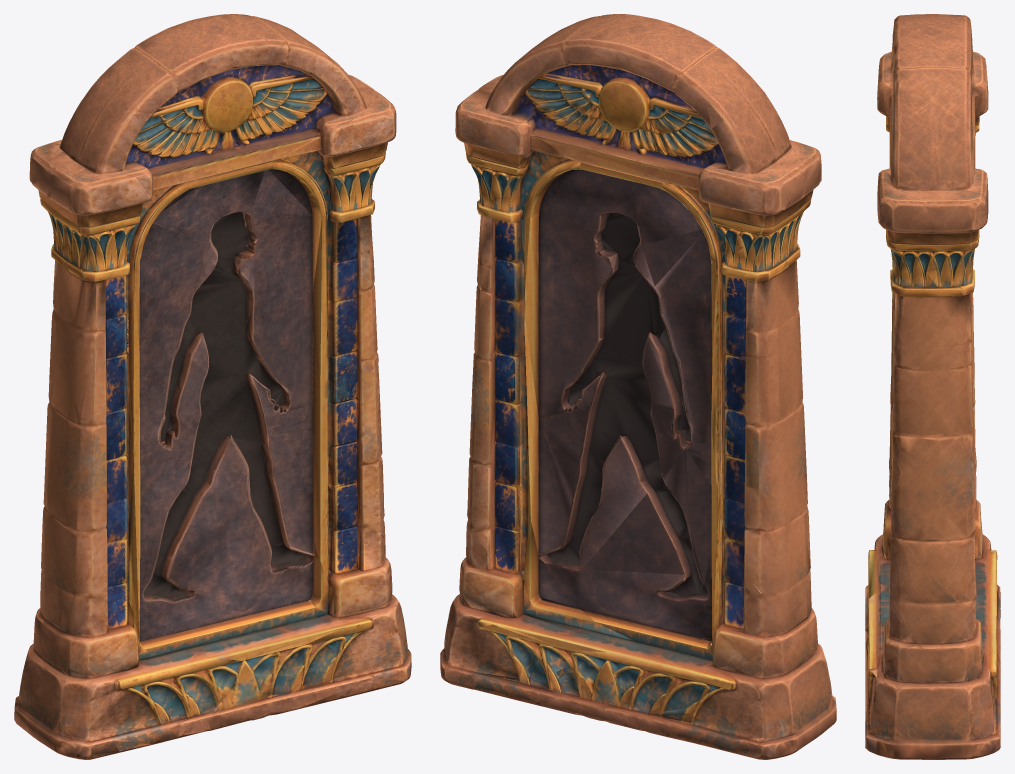
Rendered from ShadowStele.fbx.
The picture shows the model from 3 angles, left to right: view 1: azimuth 30°, elevation 25°; view 2: azimuth 150°, elevation 25°; view 3: azimuth 270°, elevation 25°; orthographic projection. The views are drawn at different scales.
Visible parts, largest first — view 1: Mesh_0; view 2: Mesh_0; view 3: Mesh_0.
Part boxes in pixels (<box>): Mesh_0: <box>14,14,411,759</box>; Mesh_0: <box>440,14,836,759</box>; Mesh_0: <box>865,14,1000,759</box>.
Bounding box in the file's own units: 107 × 190 × 36.08.
1 material, 1 textured.
